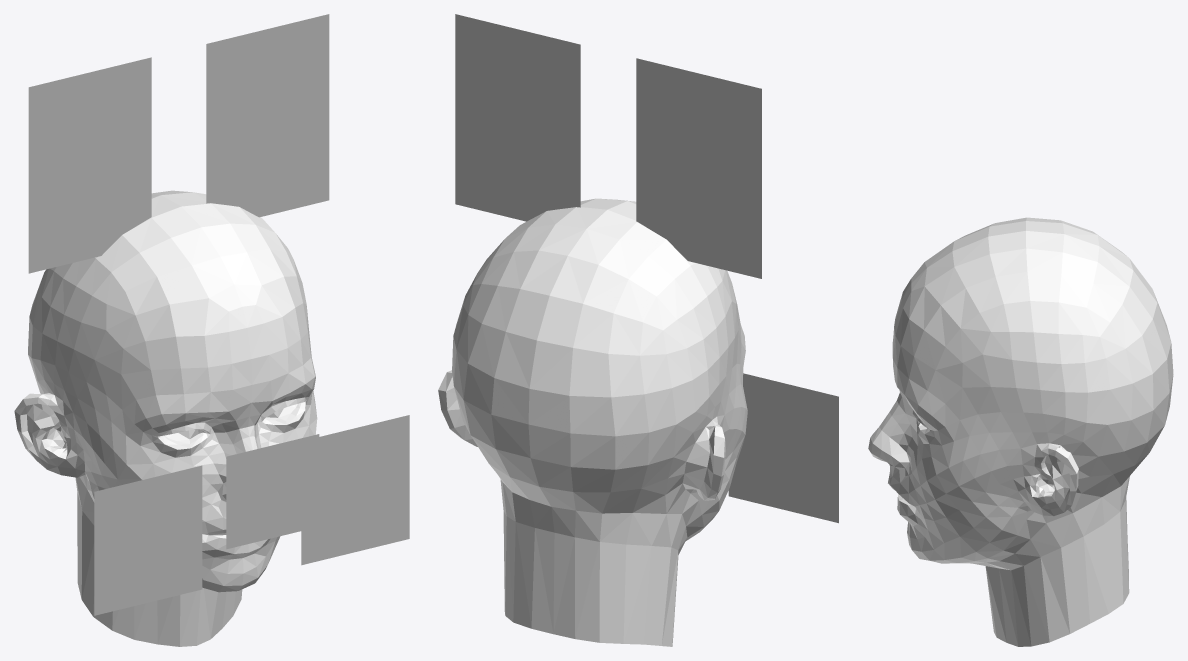
The model's file is 2018languang.obj.
The picture shows the model from 3 angles, left to right: view 1: azimuth 30°, elevation 25°; view 2: azimuth 150°, elevation 25°; view 3: azimuth 270°, elevation 25°; orthographic projection. The views are drawn at different scales.
Visible parts, largest first — view 1: basehead, Plane002, Plane001, Plane004, Plane005, Plane003; view 2: basehead, Plane002, Plane001, Plane004; view 3: basehead.
Part boxes in pixels (left/top/right/bottom): basehead: left=14, top=190, right=317, bottom=646; Plane002: left=28, top=57, right=151, bottom=273; Plane001: left=206, top=14, right=329, bottom=217; Plane004: left=94, top=465, right=202, bottom=615; Plane005: left=301, top=415, right=409, bottom=565; Plane003: left=226, top=434, right=319, bottom=549; basehead: left=438, top=198, right=747, bottom=646; Plane002: left=636, top=58, right=761, bottom=278; Plane001: left=455, top=14, right=580, bottom=221; Plane004: left=728, top=373, right=838, bottom=523; basehead: left=868, top=217, right=1173, bottom=646.
Bounding box in the file's own units: 0.2112 × 0.3728 × 0.1884.
